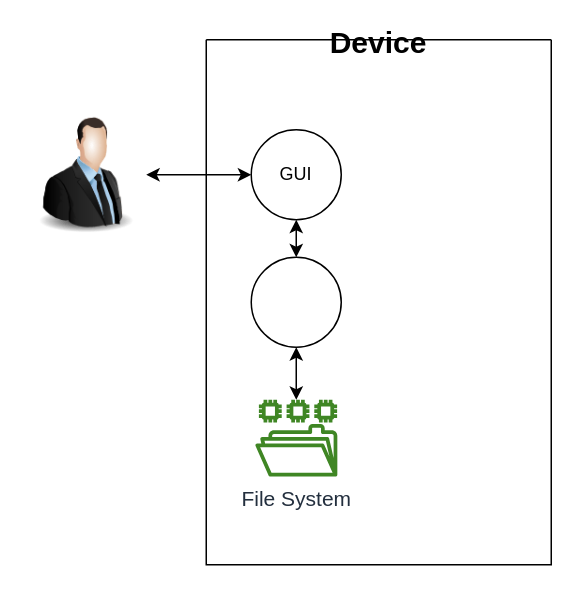
This 578x591 diagram has some shape labels left out. Each missing label, with the box of its shape:
Logic: (250, 256, 341, 347)
User: (26, 114, 146, 234)
